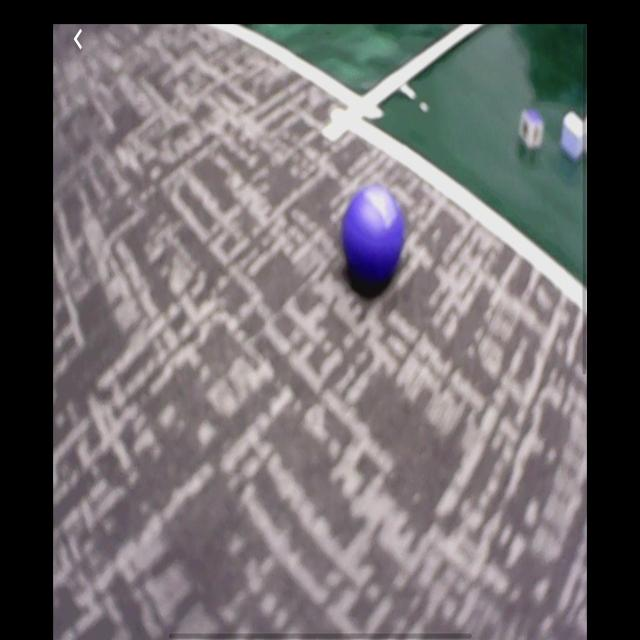ball: (343, 184, 407, 287)
